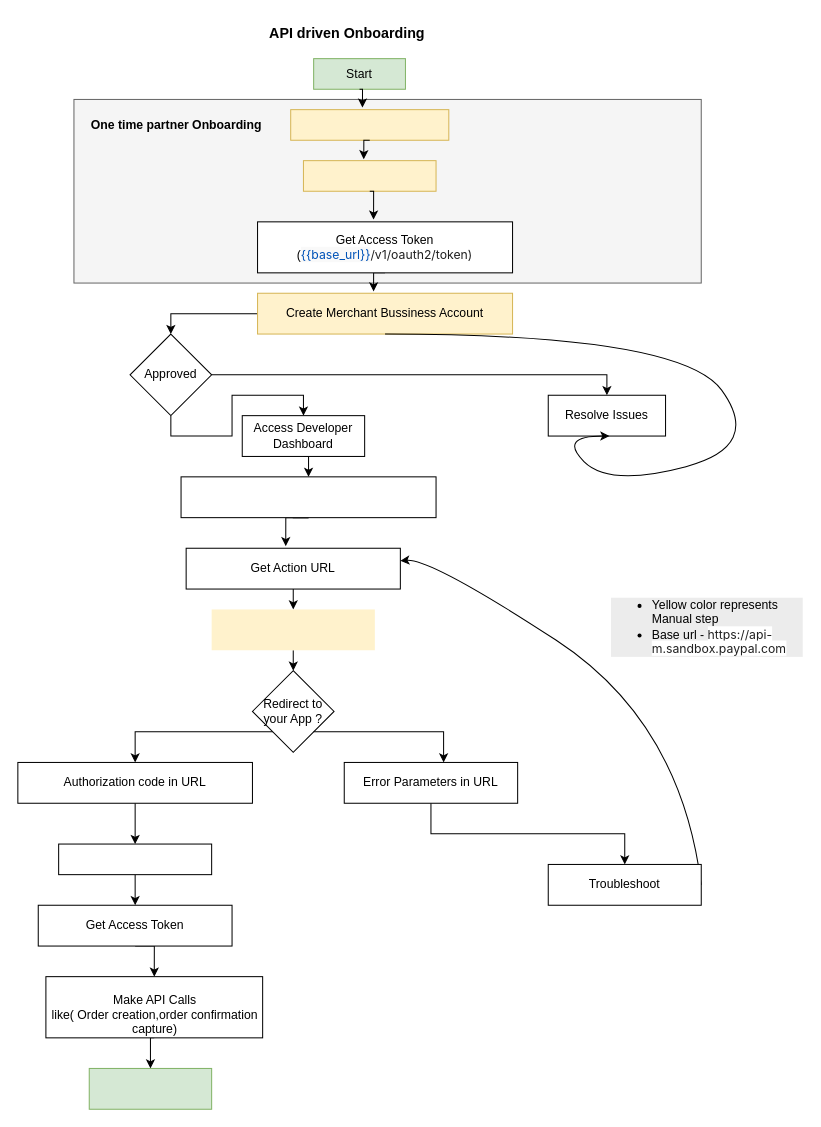
Image size: 821x1127. Some labels were removed from this diagram. Each missing label, with the centre of its shape:
Apply for Merchant Services {{base_url}} /v2/customer/partner-referrals: point (308, 497)
Create PayPal Business Accounts: point (369, 124)
End: point (150, 1088)
Exchange code for tokens: point (135, 859)
Get Client ID & Secret: point (369, 175)
Merchant Login & Consent: point (292, 629)
